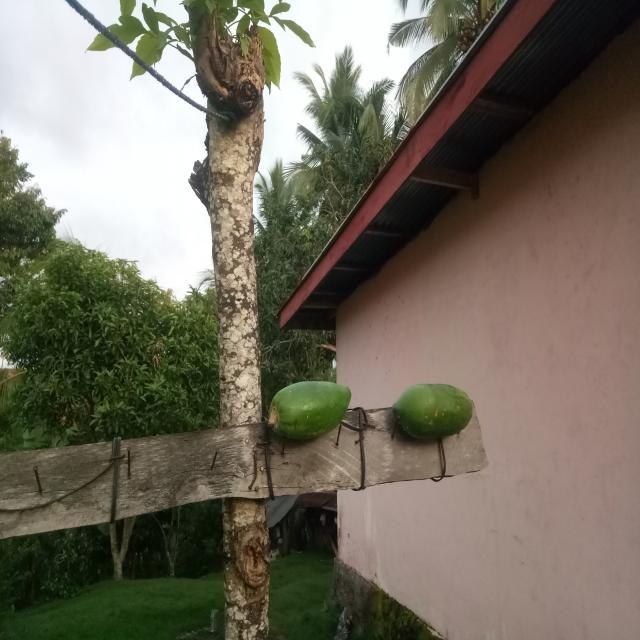Pepaya unrippen: (262, 373, 355, 436), (385, 378, 478, 441)
